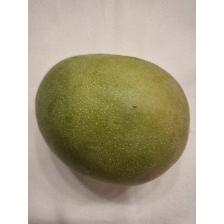Mango: (33, 51, 193, 189)
